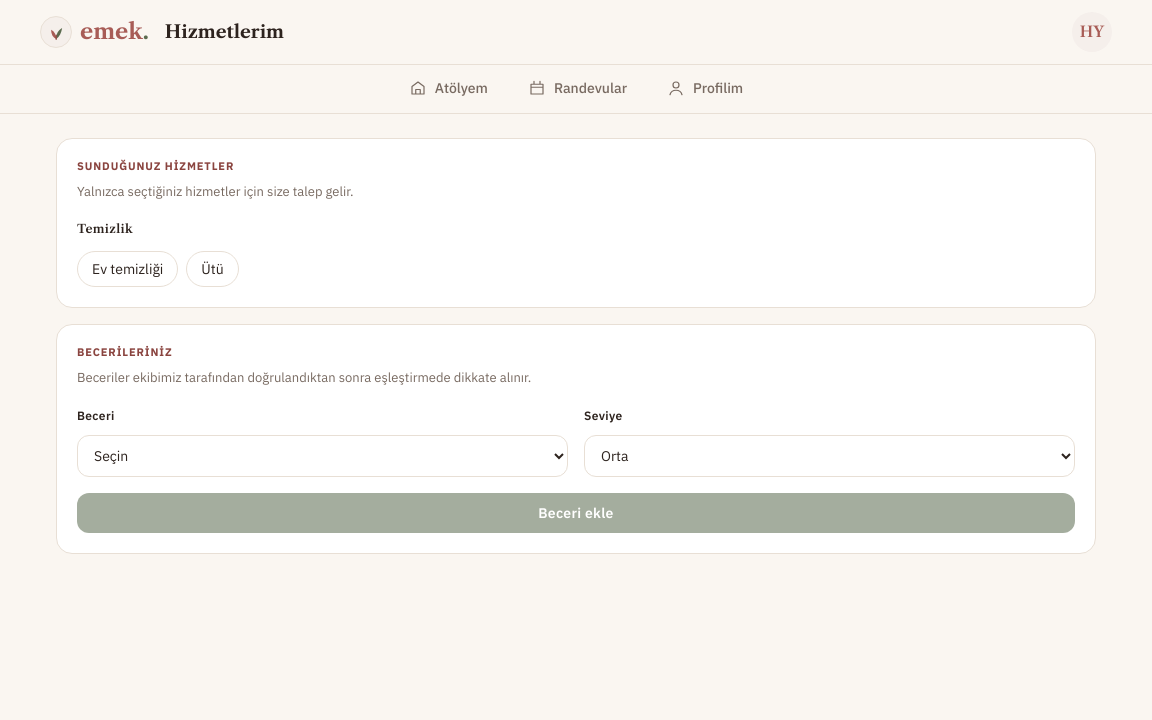
Test: Hizmetler ve beceriler › hizmet seçimi ekler/kaldırır; beceri seviyeyle eklenir ve doğrulama durumu gösterilir
Click the button "Ev temizliği" at {"x": 128, "y": 269}, box [77,251,178,287]
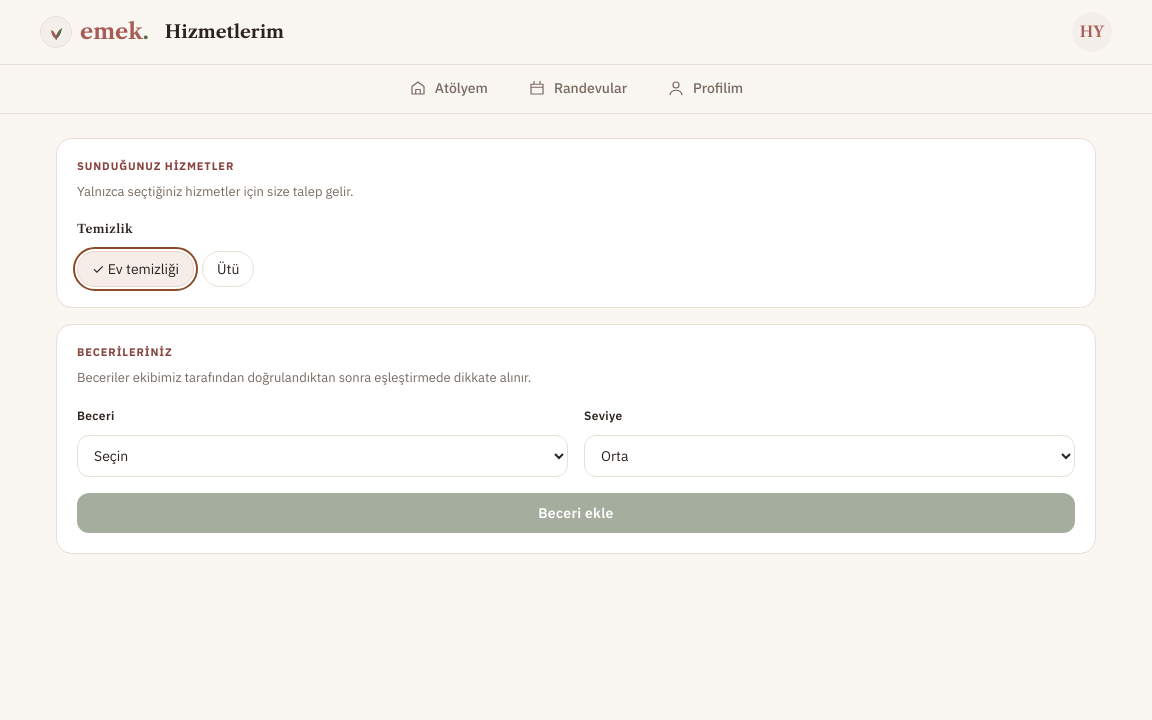
Check: the button "✓ Ev temizliği" is pressed, box [77,251,194,287]
Select "Derin temizlik" in the dropdown labelled "Beceri" at {"x": 322, "y": 456}, box [77,435,568,477]
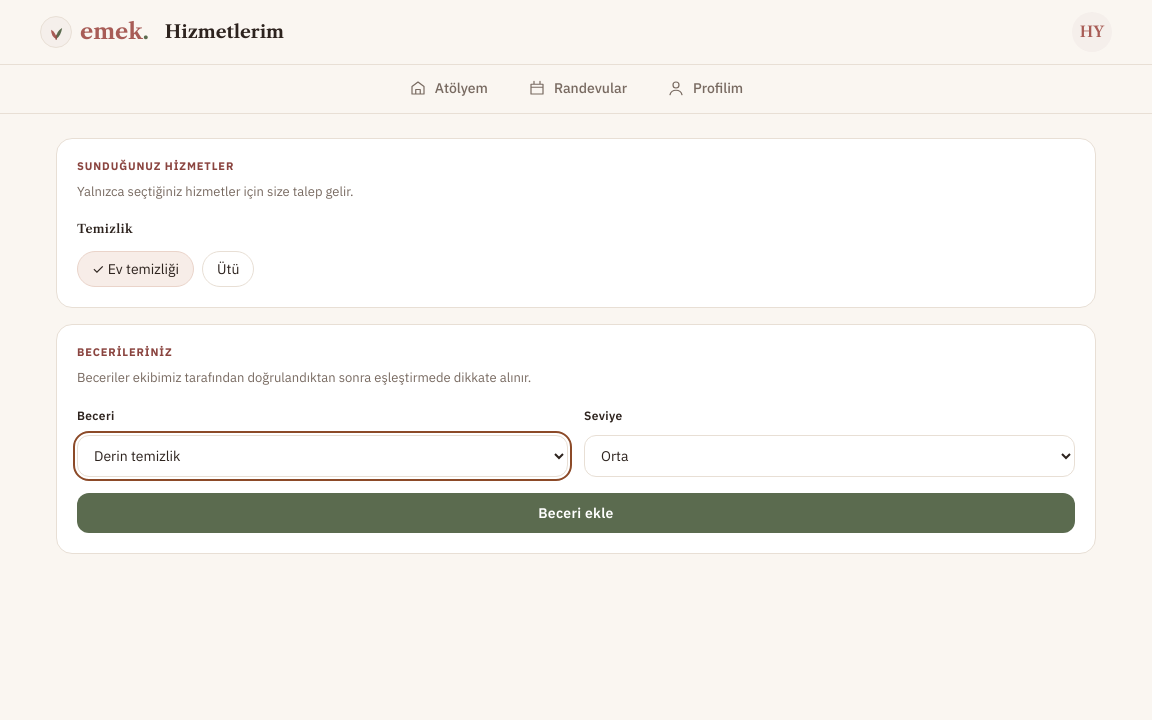
Select "Uzman" in the dropdown labelled "Seviye" at {"x": 830, "y": 456}, box [584,435,1075,477]
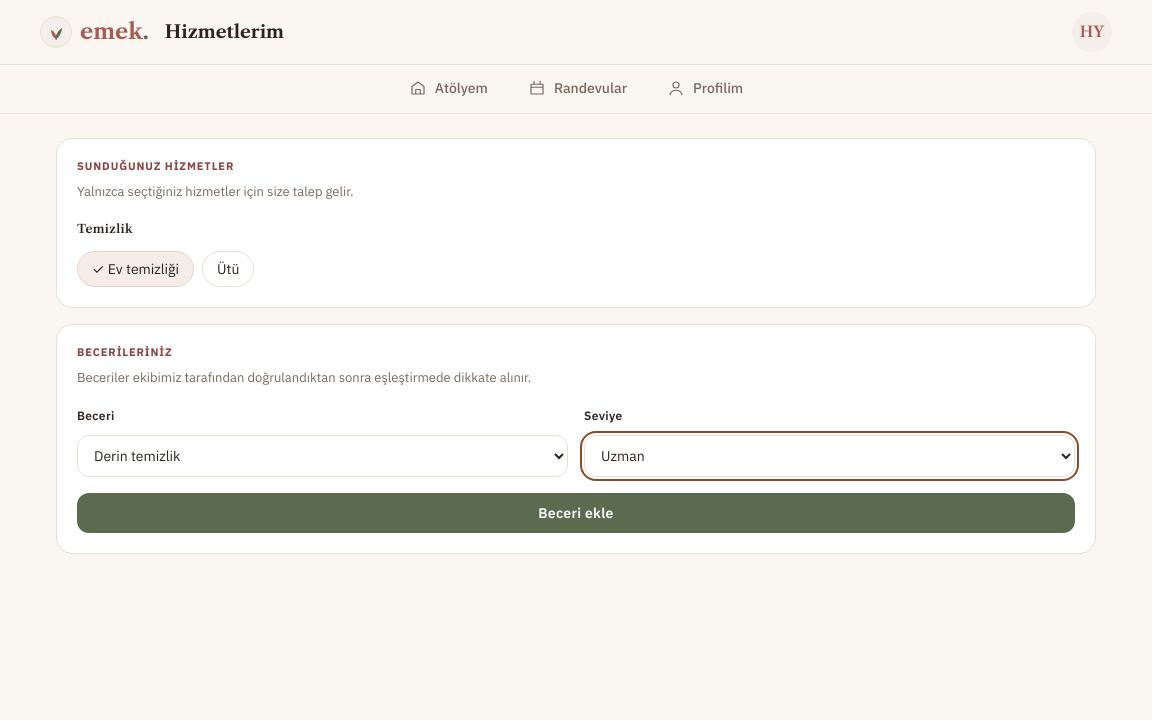
Click the button "Beceri ekle" at {"x": 576, "y": 513}, box [77,493,1075,533]
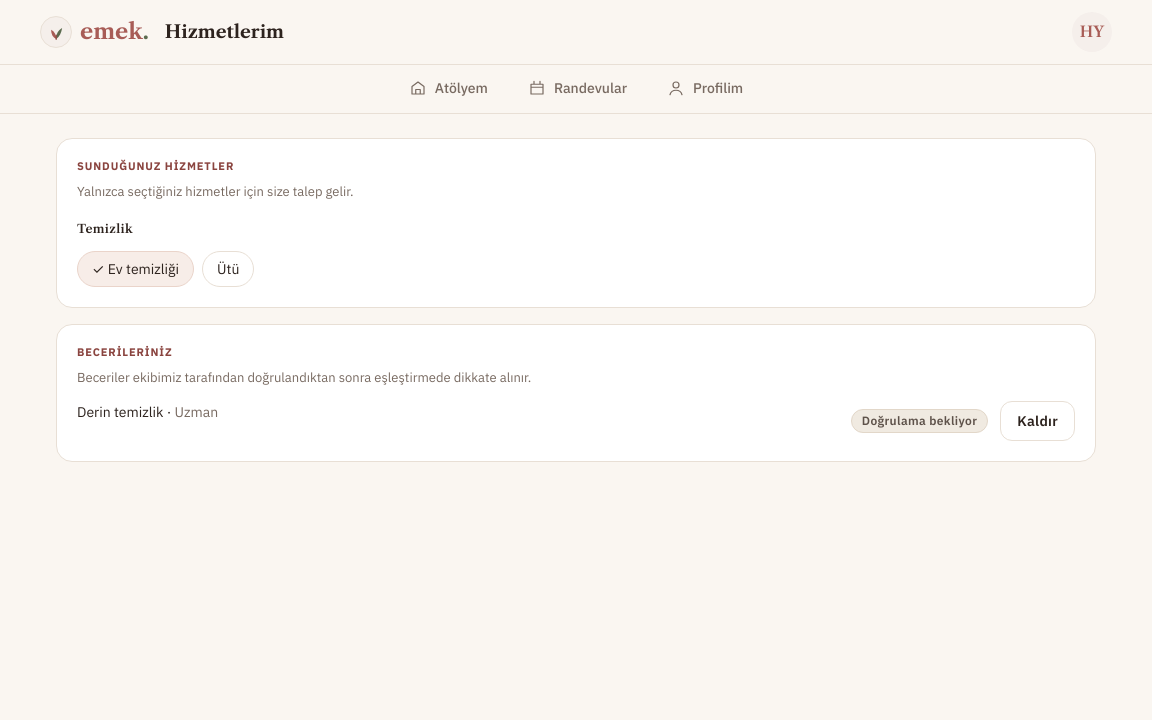
Check: the text "Doğrulama bekliyor" is shown, box [851,409,988,433]
